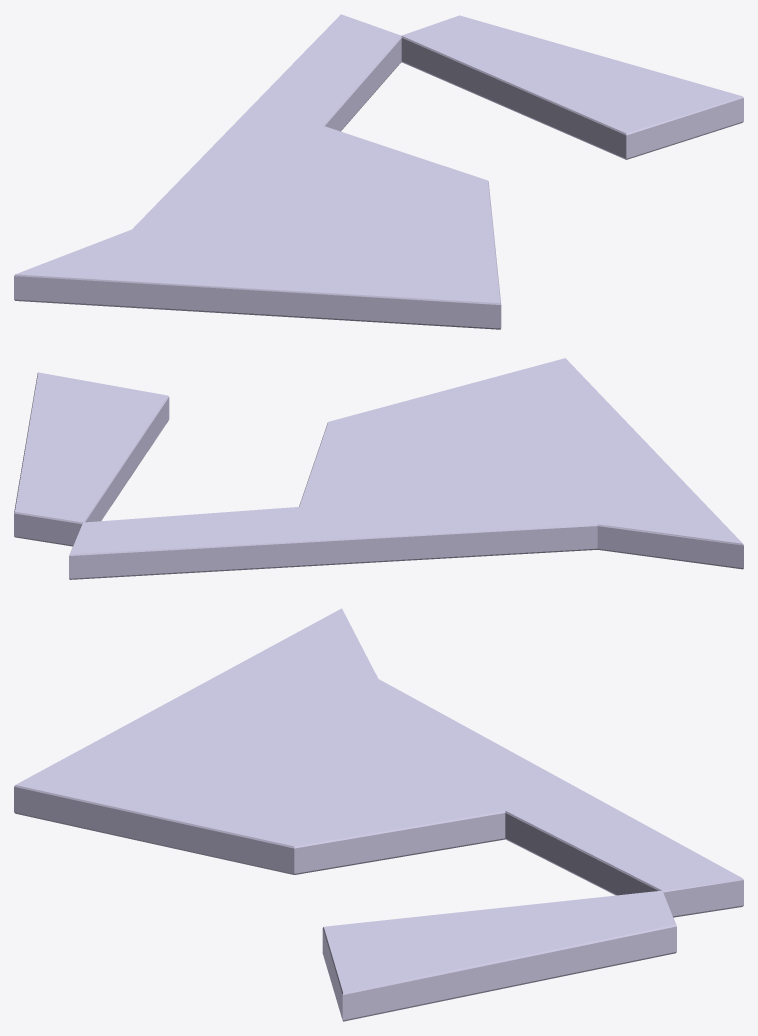
The model's file is BRN.glb.
3 views of the same model, one above another, from view 1: azimuth 30°, elevation 25°; view 2: azimuth 150°, elevation 25°; view 3: azimuth 270°, elevation 25° (orthographic). The views are drawn at different scales.
Size of the model in its own units: 1.96 by 0.068 by 1.57.
